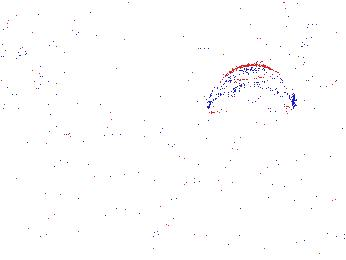moon jellyfish: (283, 1, 346, 84), (1, 1, 89, 54), (207, 64, 295, 114)
